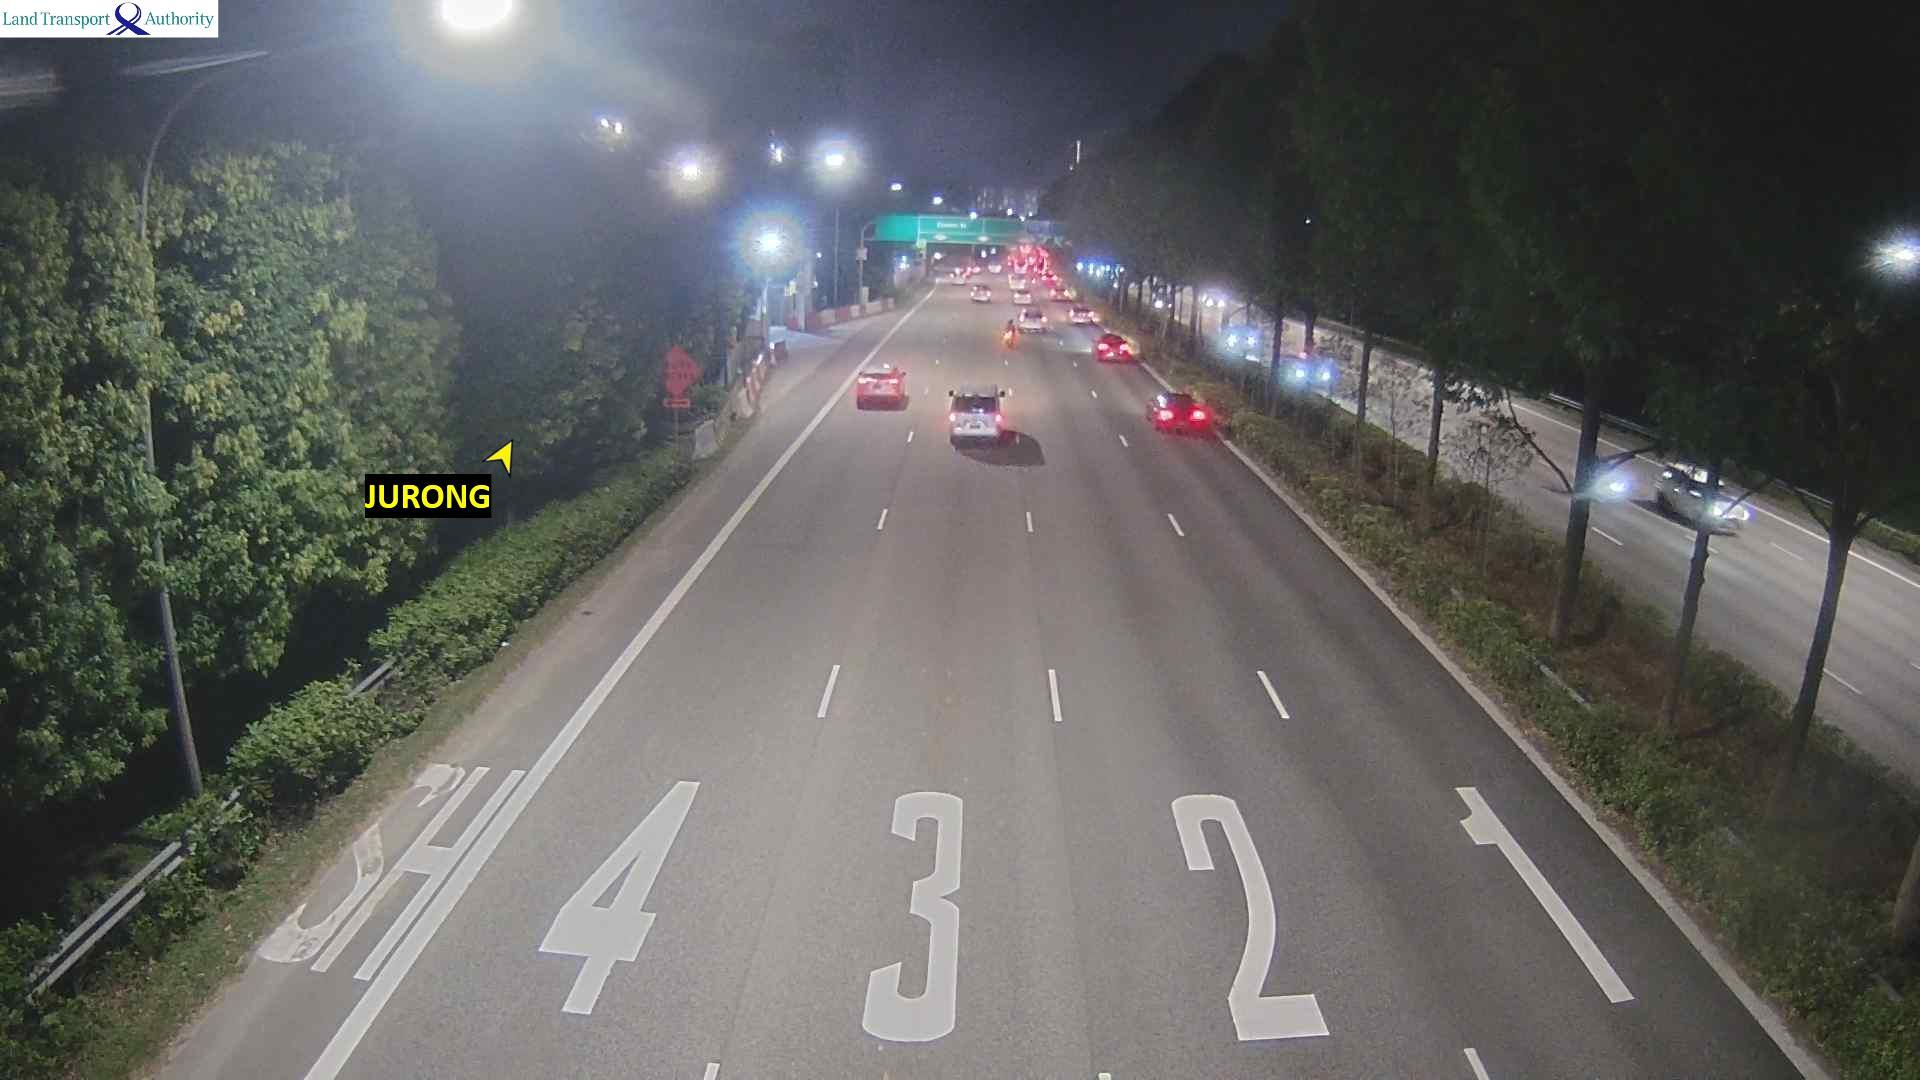bus: (1011, 257, 1030, 277)
cars: (1654, 459, 1751, 533), (945, 382, 1011, 446), (1259, 349, 1337, 397), (1145, 389, 1215, 434), (855, 361, 909, 410), (1218, 322, 1261, 360), (1093, 331, 1138, 363), (1015, 305, 1048, 334), (1007, 276, 1033, 305), (1199, 285, 1228, 309), (1067, 305, 1098, 324), (968, 282, 992, 303), (947, 272, 969, 287), (1050, 286, 1071, 302), (985, 258, 1004, 276), (963, 264, 982, 278), (1042, 273, 1060, 287), (1033, 257, 1044, 276)
motorcycle: (1573, 451, 1636, 505), (1001, 319, 1019, 348)
